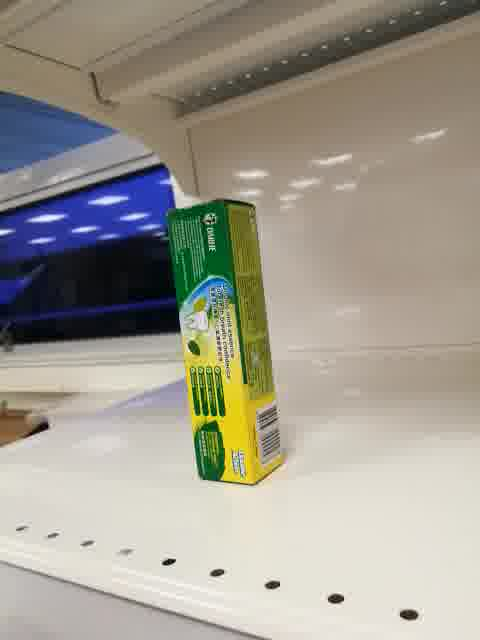toothpaste: (166, 198, 284, 486)
